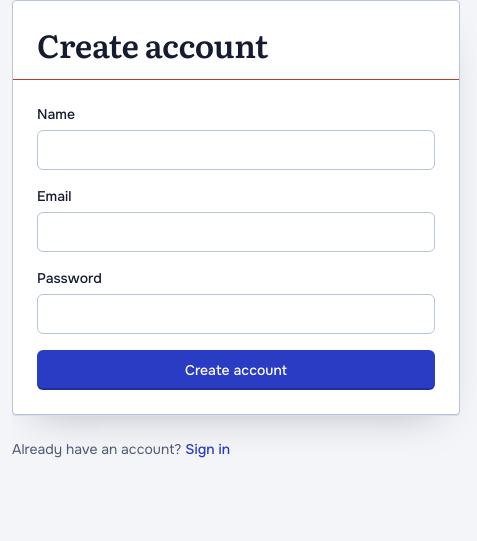
RegisterForm › shows validation messages when submitted empty
The width and height of the screenshot is (477, 541).
Click the button "Create account" at (236, 370), box [37, 350, 435, 390]
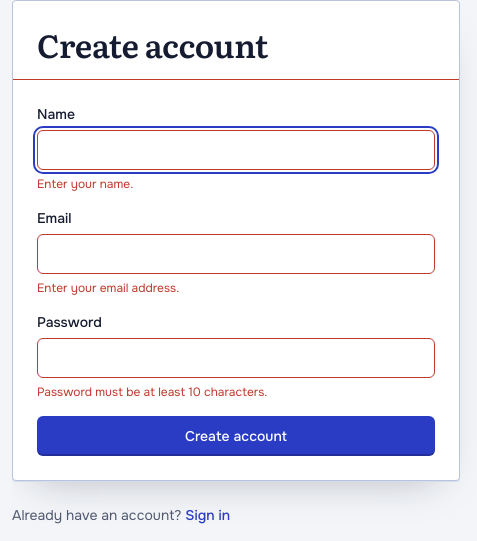
Expected: the text "Enter your name." is shown, [37, 176, 133, 192]
Expected: the text "Enter your email address." is shown, [37, 280, 179, 296]
Expected: the text "Password must be at least 10 characters." is shown, [37, 384, 267, 400]
